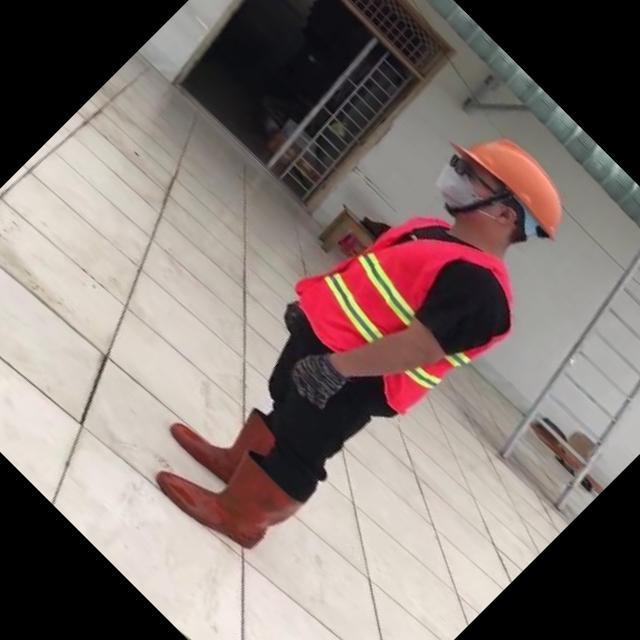hard_hat: (450, 109, 584, 243)
safety_vest: (285, 179, 540, 434)
vehicle: (100, 81, 618, 599)
work_boots: (160, 367, 315, 522), (150, 416, 304, 568)
